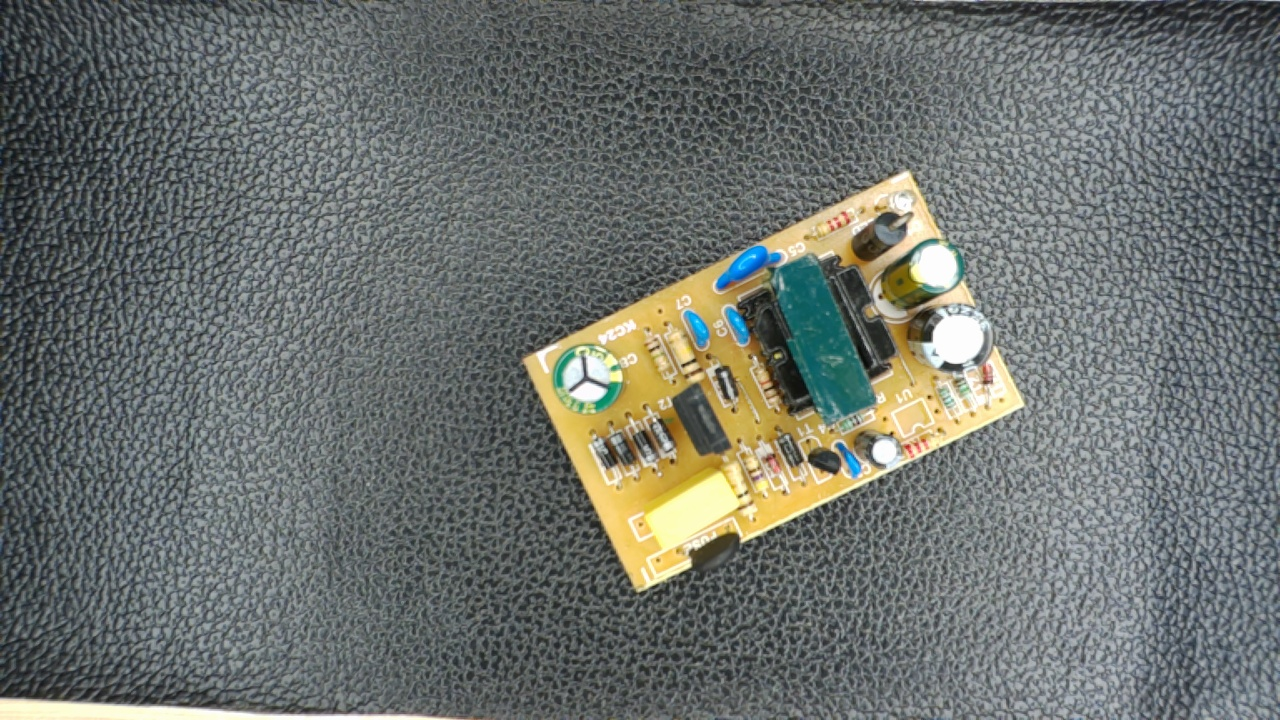fuse: (669, 518, 752, 576)
hv_capacitor: (545, 341, 630, 417)
mov: (707, 245, 789, 294)
